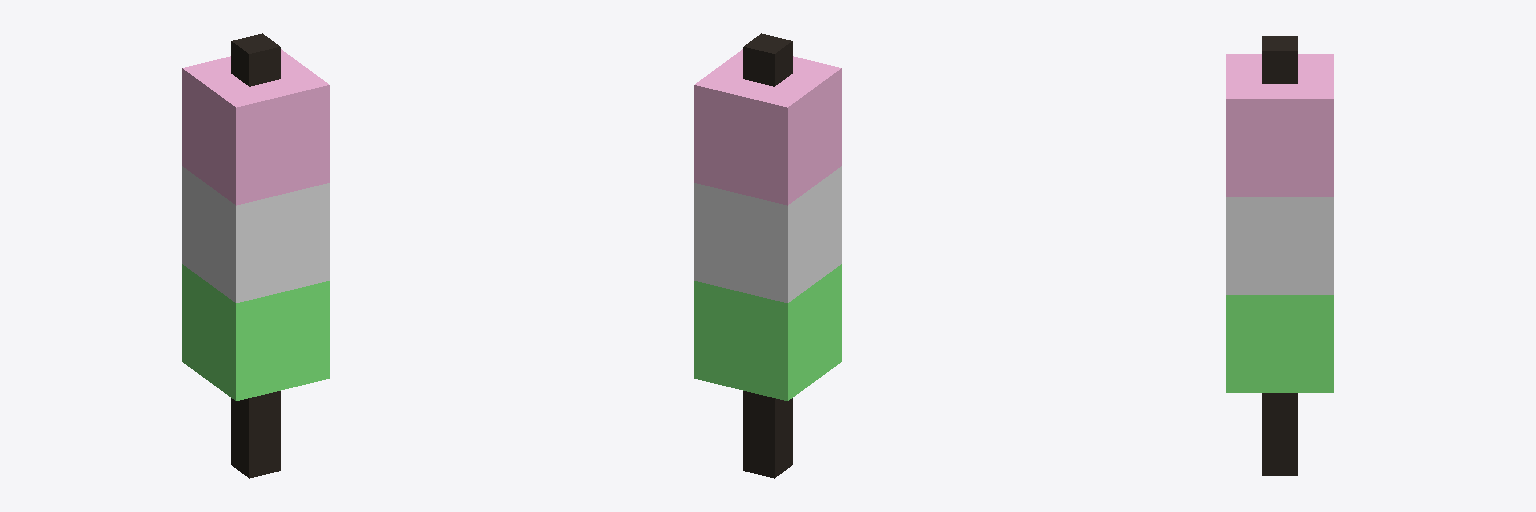
3 views of the same model, side by side, from view 1: azimuth 30°, elevation 25°; view 2: azimuth 150°, elevation 25°; view 3: azimuth 270°, elevation 25° (orthographic).
Visible parts, largest first — view 1: object 1; view 2: object 1; view 3: object 1.
Boxes of the visible parts, <box> form: object 1: <box>182,33,329,478</box>; object 1: <box>694,33,841,478</box>; object 1: <box>1226,36,1333,475</box>.
Bounding box in the file's own units: 0.3 × 1.3 × 0.3.
1 materials, 1 textured.